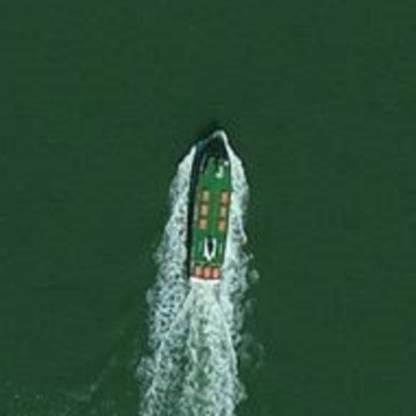ship: (176, 119, 238, 293)
